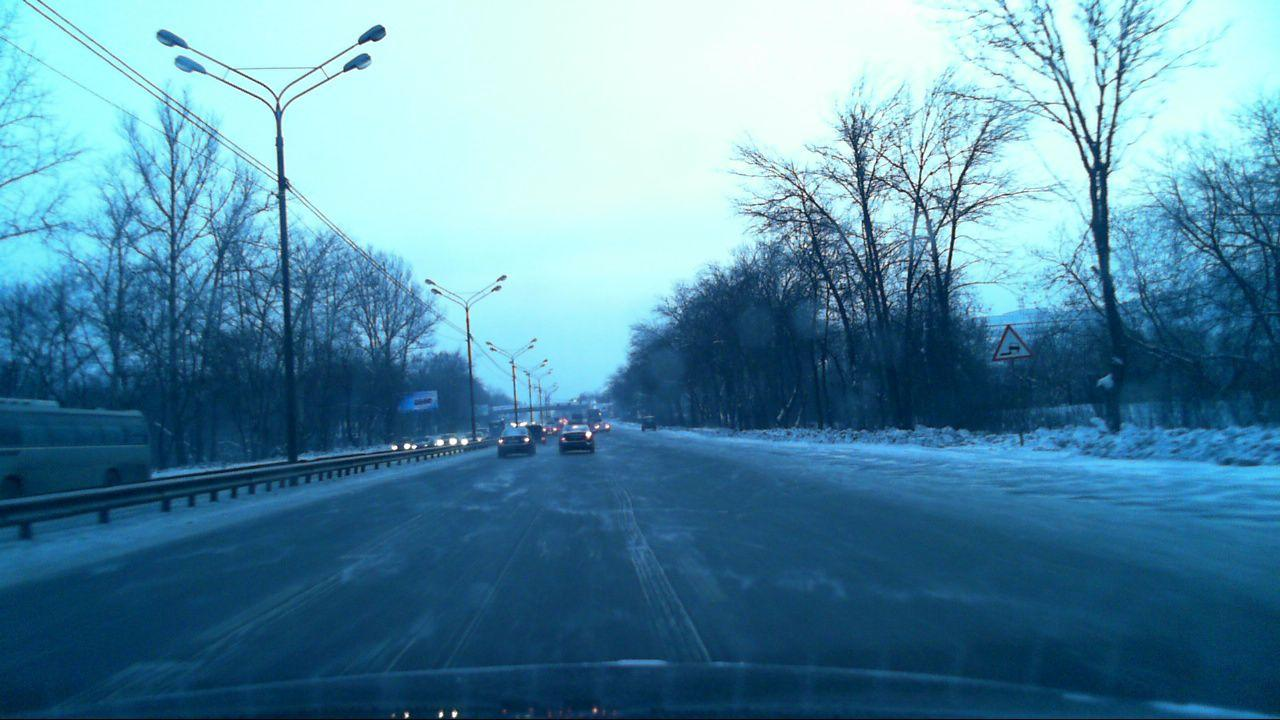1_19: (992, 324, 1031, 361)
